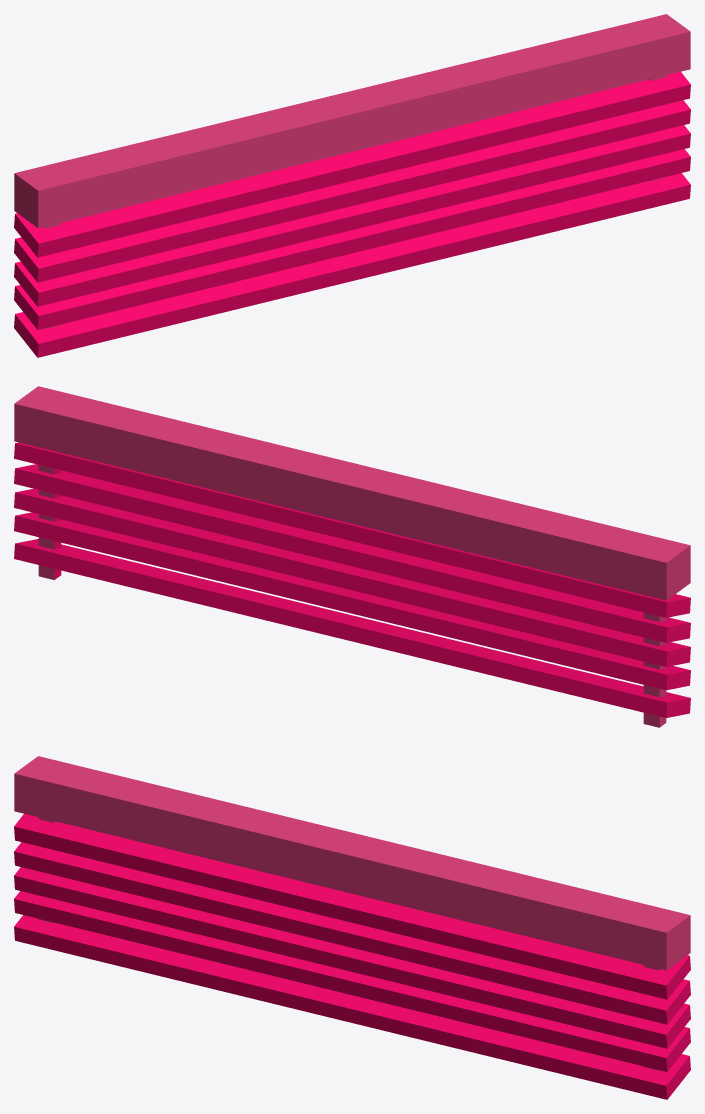
Rendered from Blinds_01.fbx.
The picture shows the model from 3 angles, top to bottom: view 1: azimuth 30°, elevation 25°; view 2: azimuth 150°, elevation 25°; view 3: azimuth 330°, elevation 25°; orthographic projection.
Visible parts, largest first — view 1: Blinds_01; view 2: Blinds_01; view 3: Blinds_01.
Part boxes in pixels (x1,y1,x2,y2): Blinds_01: [14, 14, 690, 357]; Blinds_01: [14, 386, 690, 727]; Blinds_01: [14, 756, 690, 1099].
Size of the model in its own units: 159 by 40.74 by 10.38.
